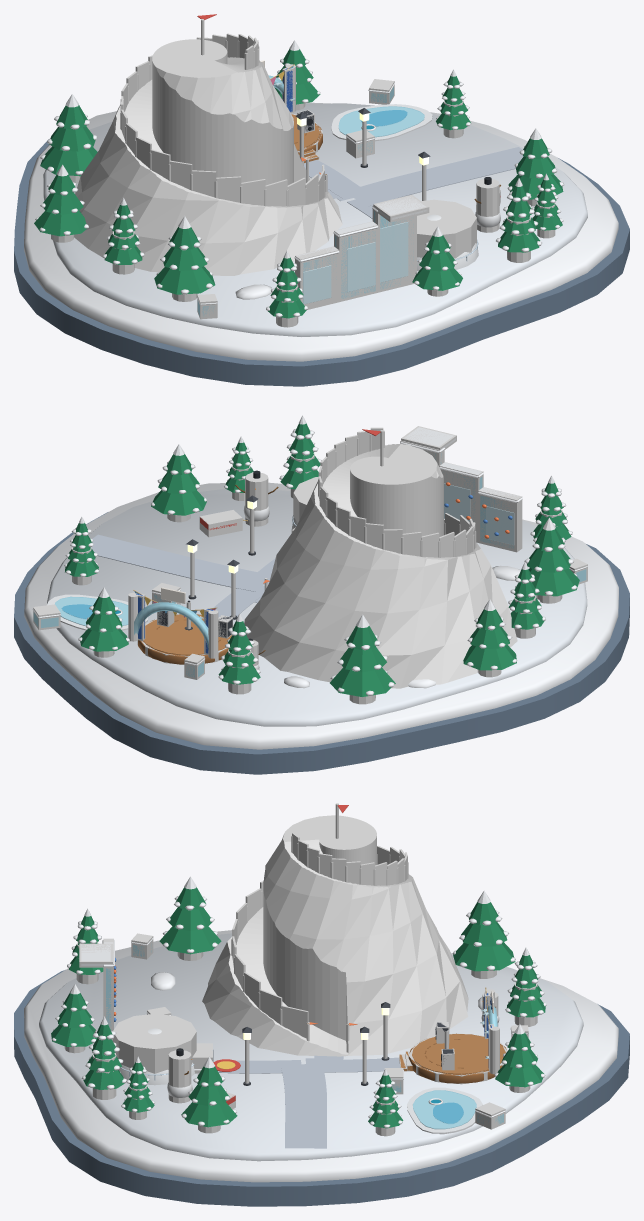
The model's file is pico.glb.
3 renders of one model, top to bottom at view 1: azimuth 30°, elevation 25°; view 2: azimuth 150°, elevation 25°; view 3: azimuth 270°, elevation 25°, orthographic.
Visible parts, largest first — view 1: chao, cenario, col-terreno, col-cil-iglu-1, col-parede-gelo-2, col-parede-gelo-1, col-parede-gelo-3, col-cil-boneco-1, col-topo-parede-1, col-bloco-de-gelo-1, col-guarda-trilha-7, col-guarda-trilha-6 (+3 smaller); view 2: chao, cenario, col-terreno, col-parede-gelo-1, col-parede-gelo-2, col-treno-1, col-cil-boneco-1, col-cil-iglu-1, col-cil-poste-arco-1; view 3: chao, col-terreno, cenario, col-cil-iglu-1, col-cil-boneco-1, col-guarda-trilha-1, col-bloco-de-gelo-3, col-parede-gelo-3.
Part boxes in pixels (<box>): chao: <box>14,102,629,386</box>; cenario: <box>34,40,564,318</box>; col-terreno: <box>74,39,342,275</box>; col-cil-iglu-1: <box>417,199,476,258</box>; col-parede-gelo-2: <box>334,221,377,301</box>; col-parede-gelo-1: <box>295,246,339,309</box>; col-parede-gelo-3: <box>372,206,416,292</box>; col-cil-boneco-1: <box>476,179,499,232</box>; col-topo-parede-1: <box>373,194,429,222</box>; col-bloco-de-gelo-1: <box>346,130,374,158</box>; col-guarda-trilha-7: <box>216,176,241,202</box>; col-guarda-trilha-6: <box>241,179,265,205</box>; chao: <box>14,482,629,774</box>; cenario: <box>32,415,587,696</box>; col-terreno: <box>244,444,517,688</box>; col-parede-gelo-1: <box>478,487,522,552</box>; col-parede-gelo-2: <box>439,462,483,542</box>; col-treno-1: <box>199,510,242,537</box>; col-cil-boneco-1: <box>245,472,268,526</box>; col-cil-iglu-1: <box>293,477,318,522</box>; col-cil-poste-arco-1: <box>208,610,218,658</box>; chao: <box>14,930,629,1206</box>; col-terreno: <box>202,815,468,1056</box>; cenario: <box>51,876,546,1148</box>; col-cil-iglu-1: <box>113,1013,196,1073</box>; col-cil-boneco-1: <box>168,1050,191,1103</box>; col-guarda-trilha-1: <box>281,1005,308,1037</box>; col-bloco-de-gelo-3: <box>475,1102,505,1129</box>; col-parede-gelo-3: <box>103,945,113,1040</box>.
Bounding box in the file's own units: 28.86 × 12.32 × 29.37.
